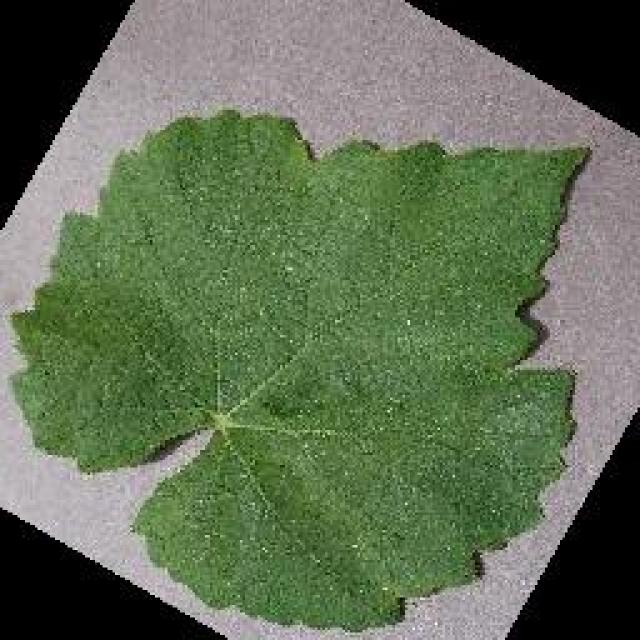Grape___healthy: (12, 112, 582, 622)
